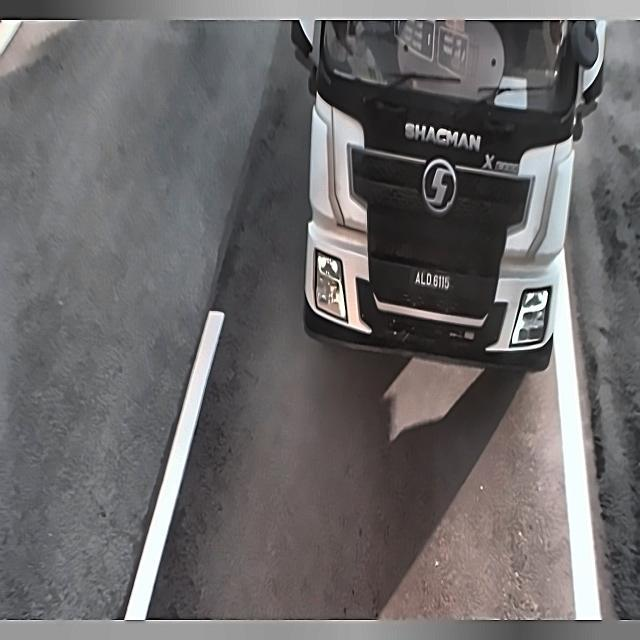car: (412, 262, 456, 298)
